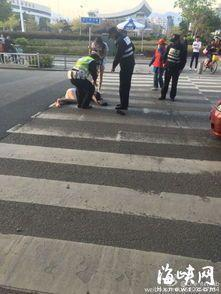Fall-Detected: (47, 81, 110, 106)
